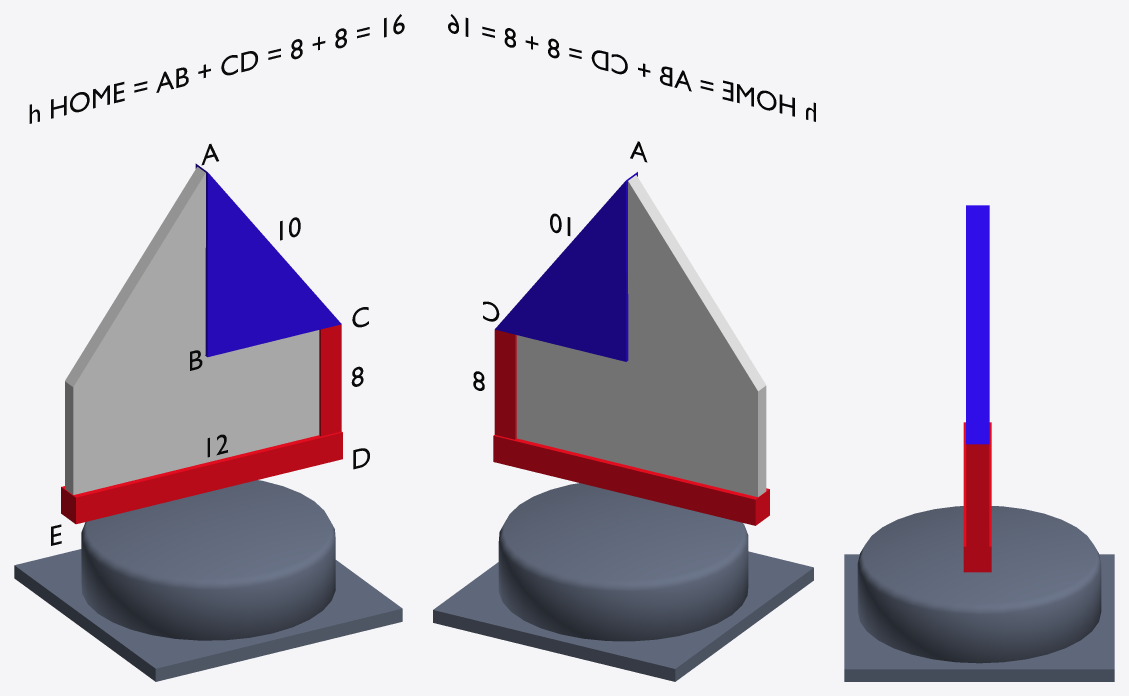
3 renders of one model, left to right at view 1: azimuth 30°, elevation 25°; view 2: azimuth 150°, elevation 25°; view 3: azimuth 270°, elevation 25°, orthographic. The views are drawn at different scales.
Parts seen in each view (by area): view 1: подставка, Cube, Cube.001, Cube.002, Cube.003, Text.009; view 2: подставка, Cube, Cube.001, Cube.002, Cube.003, Text.009; view 3: подставка, Cube.002, Cube.003.
Part boxes in pixels (x1,y1,x2,y2): подставка: (14, 480, 402, 681); Cube: (65, 330, 319, 494); Cube.001: (65, 167, 205, 387); Cube.002: (195, 163, 341, 357); Cube.003: (61, 324, 342, 524); Text.009: (29, 14, 404, 123); подставка: (433, 483, 813, 681); Cube: (516, 335, 766, 496); Cube.001: (628, 175, 766, 391); Cube.002: (495, 172, 637, 361); Cube.003: (493, 329, 769, 525); Text.009: (448, 14, 815, 121); подставка: (844, 506, 1114, 681); Cube.002: (966, 205, 989, 444); Cube.003: (963, 422, 991, 572).
Bounding box in the file's own units: 13.9 × 19.41 × 9.09.
